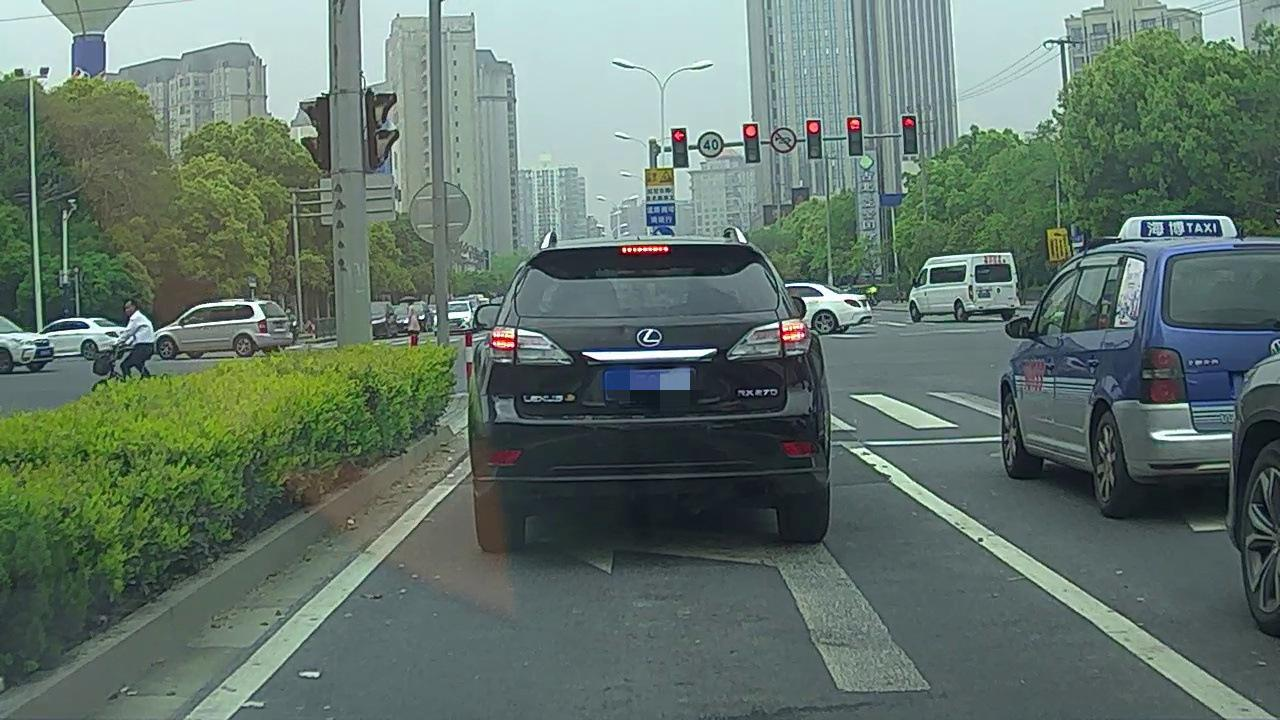traffic_light: (807, 120, 822, 159), (672, 129, 687, 167), (847, 118, 862, 156), (902, 116, 917, 153), (745, 124, 759, 161)
